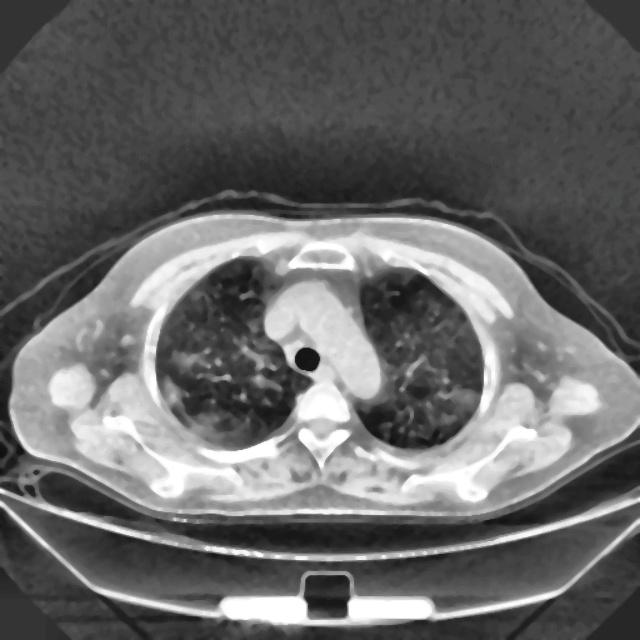covid: (6, 199, 638, 526)
